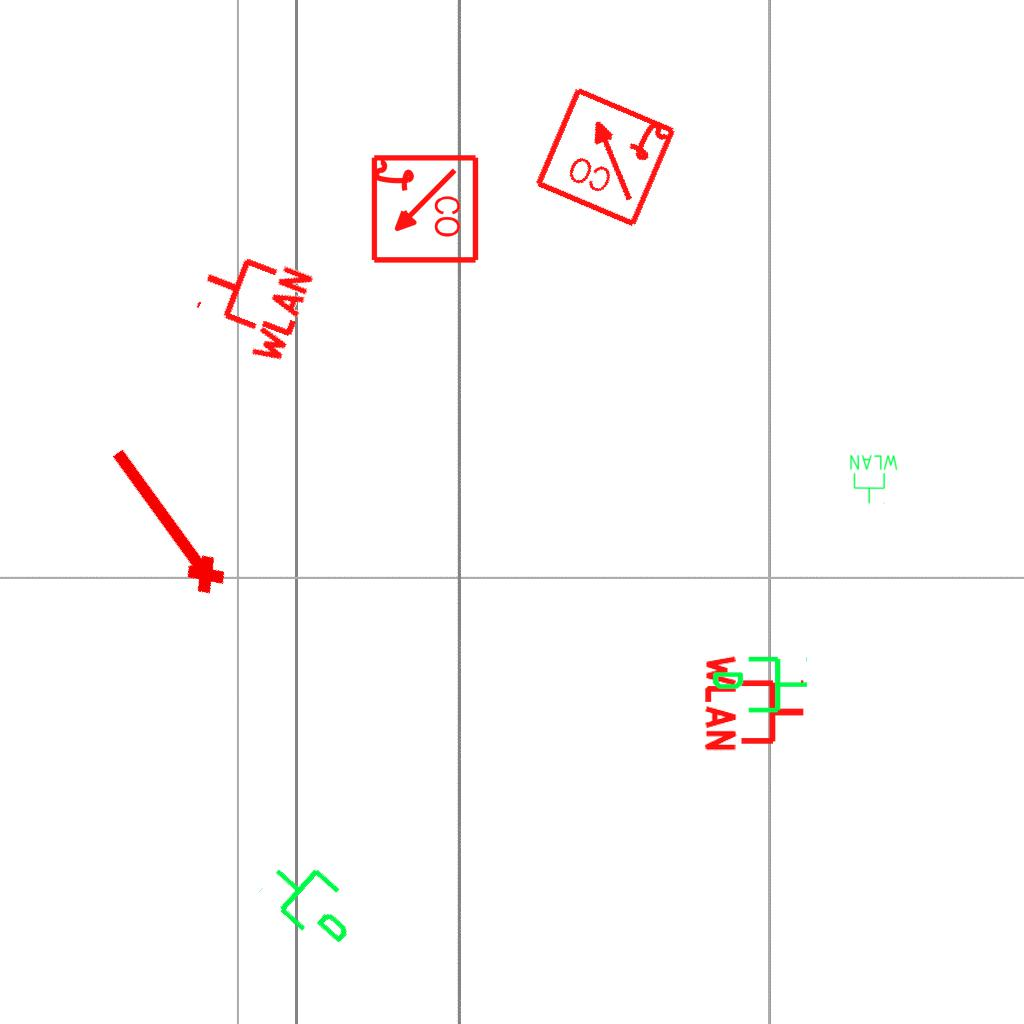ASR_Ansaugoeffnung: (93, 436, 235, 606)
Datenanschluss_einfach: (253, 841, 374, 961), (710, 652, 810, 721)
ROA_Rauchmelder_optisch_mit_Signalgeber_(Sockelsirene): (531, 81, 680, 230), (367, 153, 480, 266)
WLAN: (181, 235, 318, 371), (703, 651, 808, 755), (848, 453, 900, 505)
